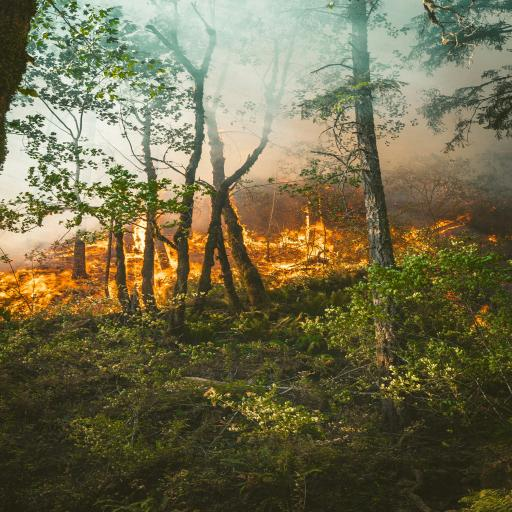wildfire: (0, 65, 512, 382)
